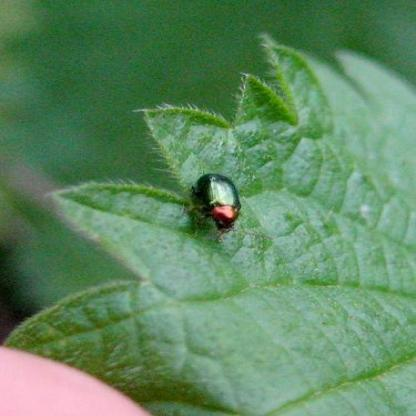beetle: (193, 172, 247, 236)
